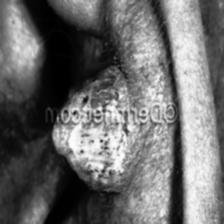Potentially Malignant Skin Tumors: (52, 123, 140, 194), (59, 60, 141, 104)
